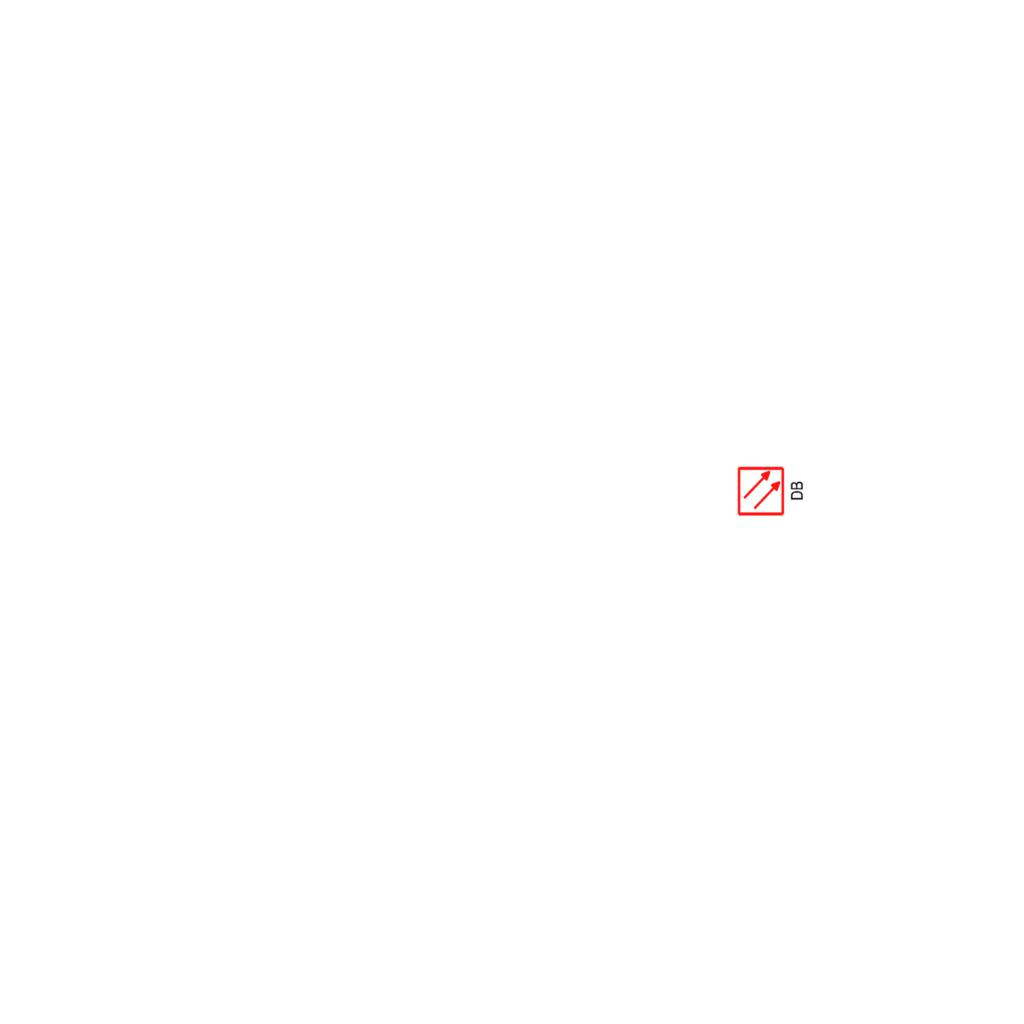DB_Melder_in_Doppelboden_mit_Revisionsoeffnung_mind_40_x_40_cm: (734, 462, 808, 519)
